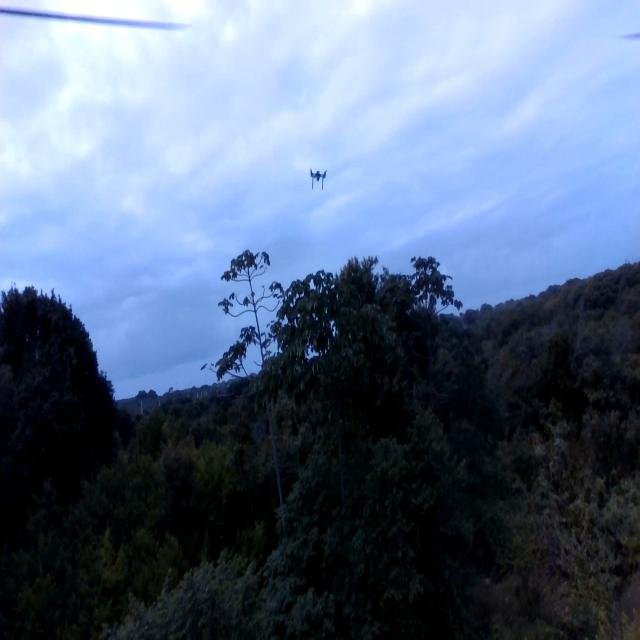-uav-: (303, 160, 332, 191)
